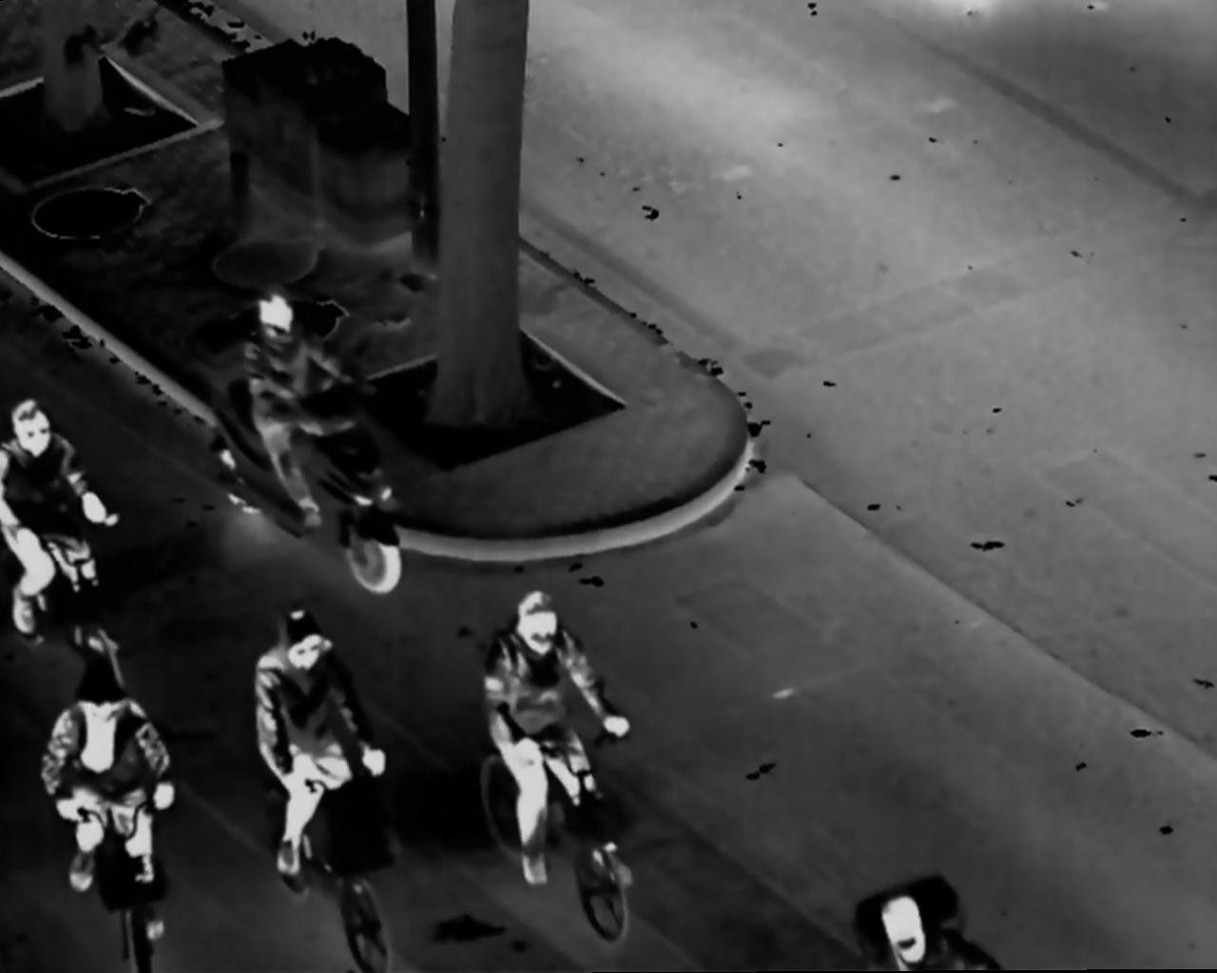person: (476, 589, 647, 904), (244, 603, 400, 900), (216, 291, 404, 528), (39, 653, 185, 944)
